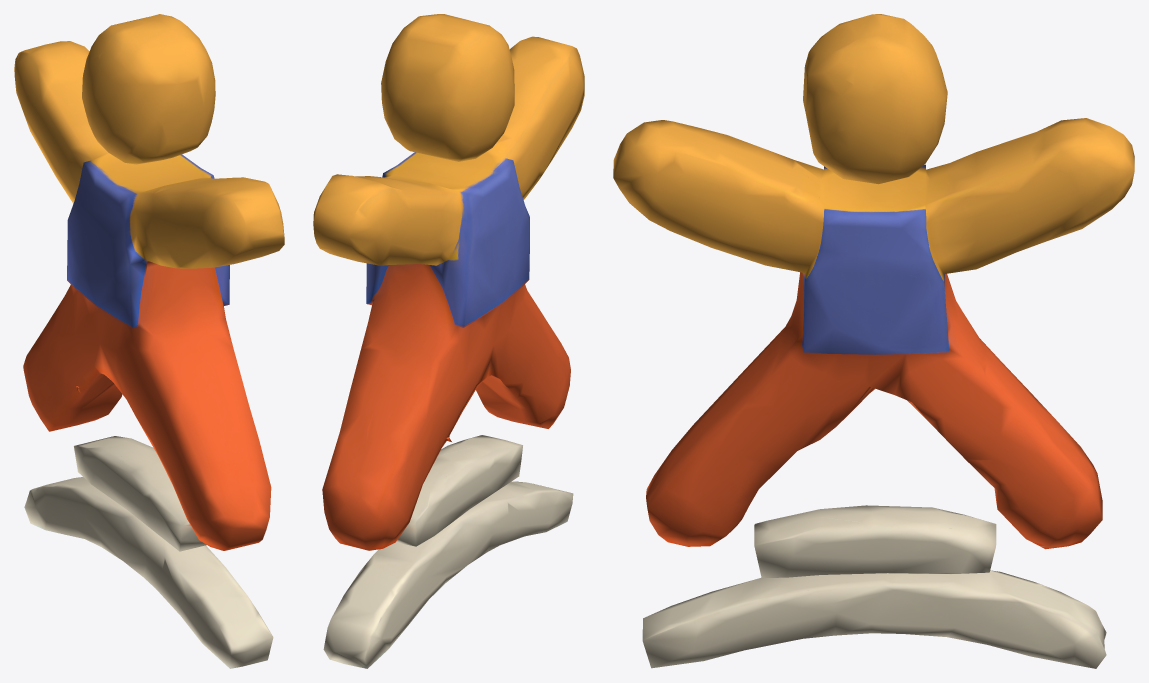
Rendered from PruebaModeloStunPw.fbx.
3 views of the same model, side by side, from view 1: azimuth 30°, elevation 25°; view 2: azimuth 150°, elevation 25°; view 3: azimuth 270°, elevation 25° (orthographic). The views are drawn at different scales.
Parts seen in each view (by area): view 1: tripo_node_5c3bc6b7-122c-426c-b107-4cf1ee17425f; view 2: tripo_node_5c3bc6b7-122c-426c-b107-4cf1ee17425f; view 3: tripo_node_5c3bc6b7-122c-426c-b107-4cf1ee17425f.
Boxes of the visible parts, x1=… form: tripo_node_5c3bc6b7-122c-426c-b107-4cf1ee17425f: x1=14, y1=14, x2=284, y2=668; tripo_node_5c3bc6b7-122c-426c-b107-4cf1ee17425f: x1=313, y1=14, x2=584, y2=668; tripo_node_5c3bc6b7-122c-426c-b107-4cf1ee17425f: x1=613, y1=14, x2=1134, y2=668.
Bounding box in the file's own units: 20.55 × 100 × 74.69.
